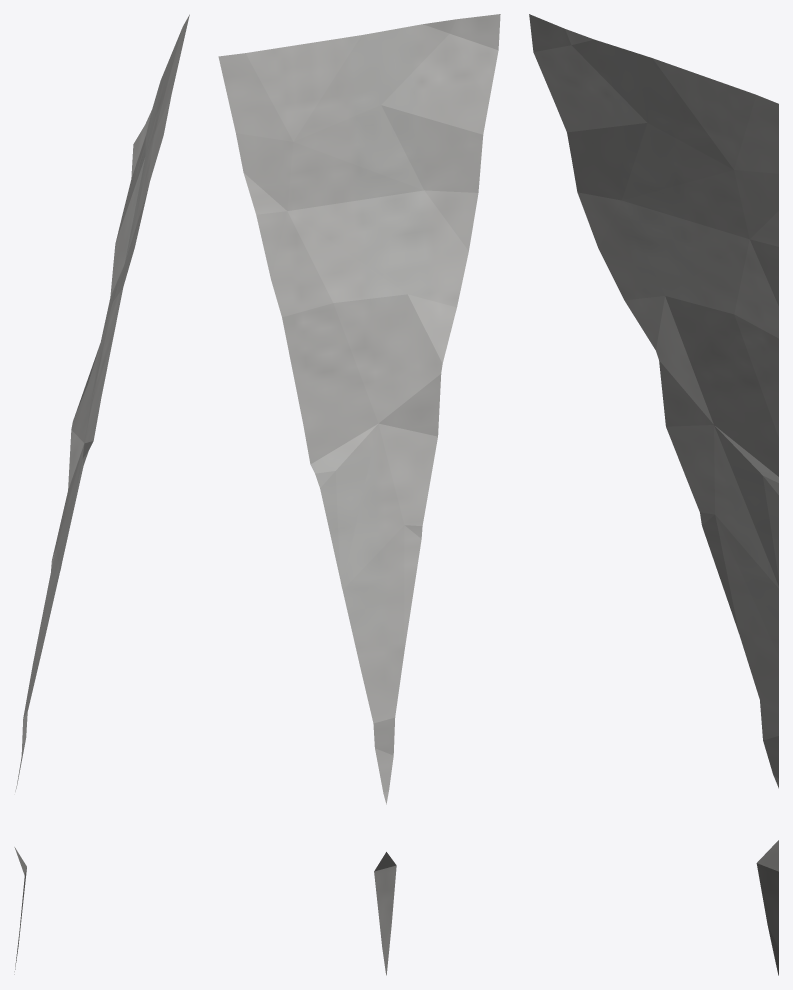
3 renders of one model, left to right at view 1: azimuth 30°, elevation 25°; view 2: azimuth 150°, elevation 25°; view 3: azimuth 270°, elevation 25°, orthographic. The views are drawn at different scales.
Size of the model in its own units: 0.0692 by 0.3457 by 0.0814.
1 material, 1 textured.
